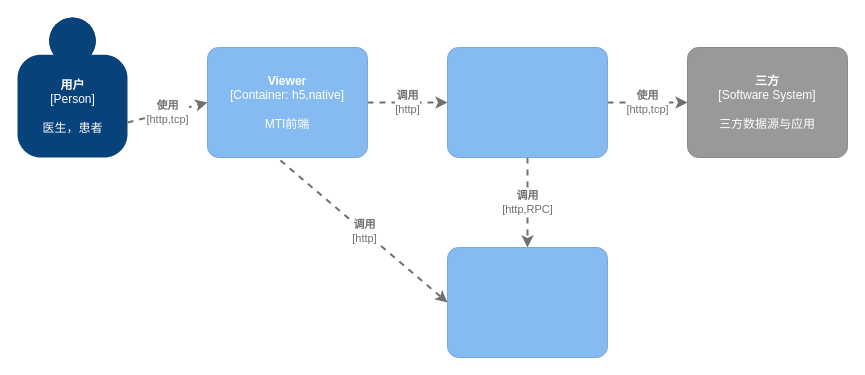
The diagram is 865 pixels wide and 375 high, and some of its shapes have lost their labels. The centre of each missing label's shape, as x and y in pixels:
"Backend [Container: java,c#,etc] MTI后端服务" belongs at (527,102).
"workflow-engine [Container: java] 工作流引擎" belongs at (527,302).
